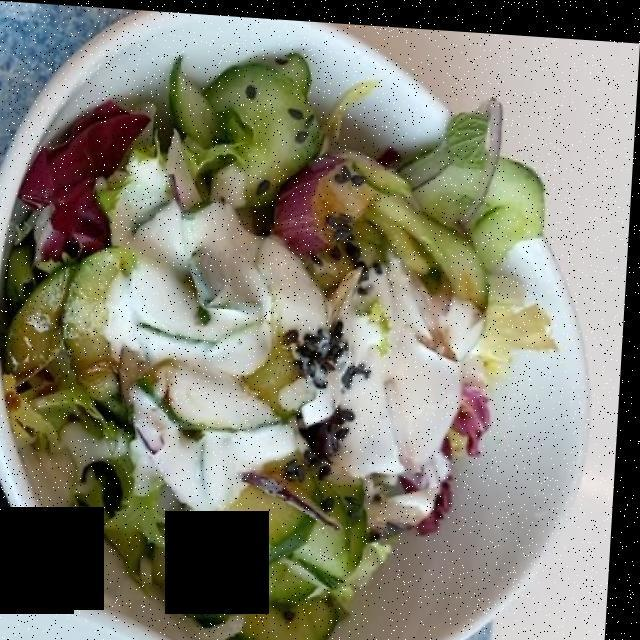salad: (15, 62, 538, 637)
sesame-seeds: (298, 160, 370, 482)
